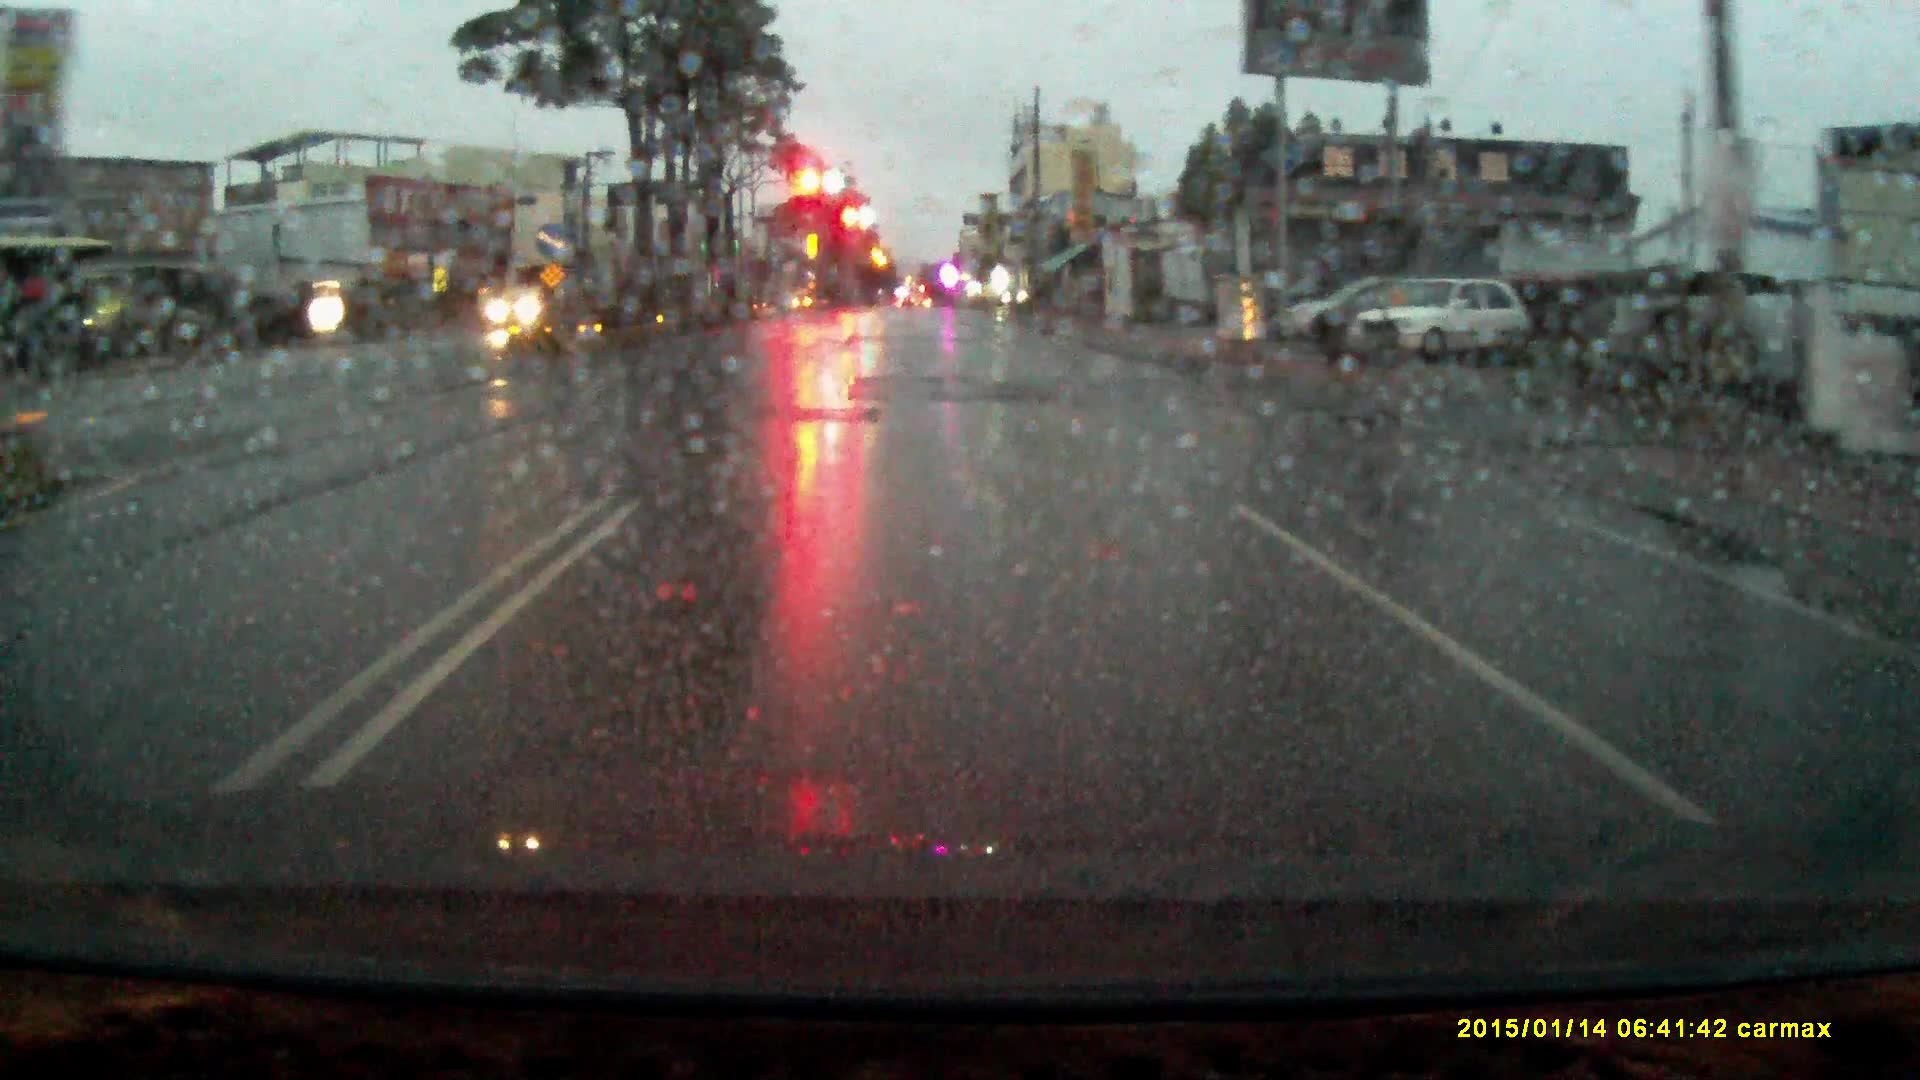vehicle: (1346, 280, 1530, 367), (1305, 280, 1451, 353), (1286, 284, 1389, 348), (487, 285, 568, 340), (1004, 284, 1058, 314)
